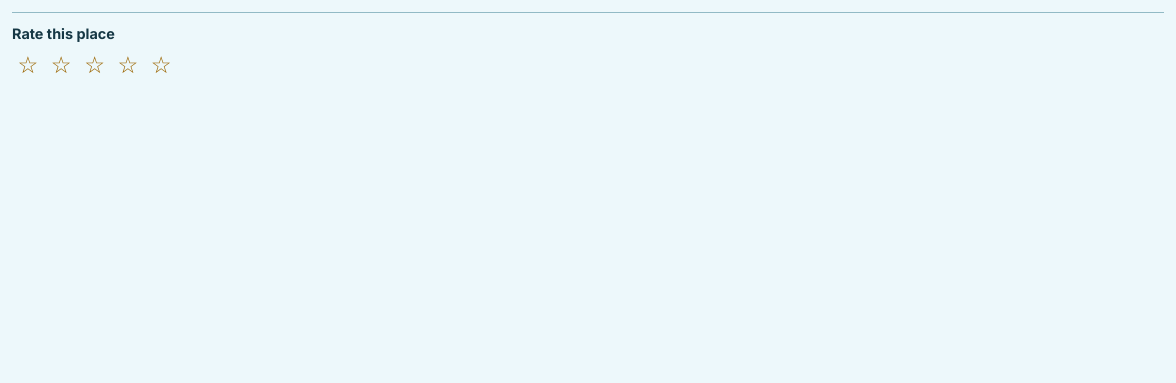
InlineRating › announces save failure and keeps retry reachable
The width and height of the screenshot is (1176, 383).
Click the radio button named "2 stars". click: (61,65)
box: [45,49,77,81]
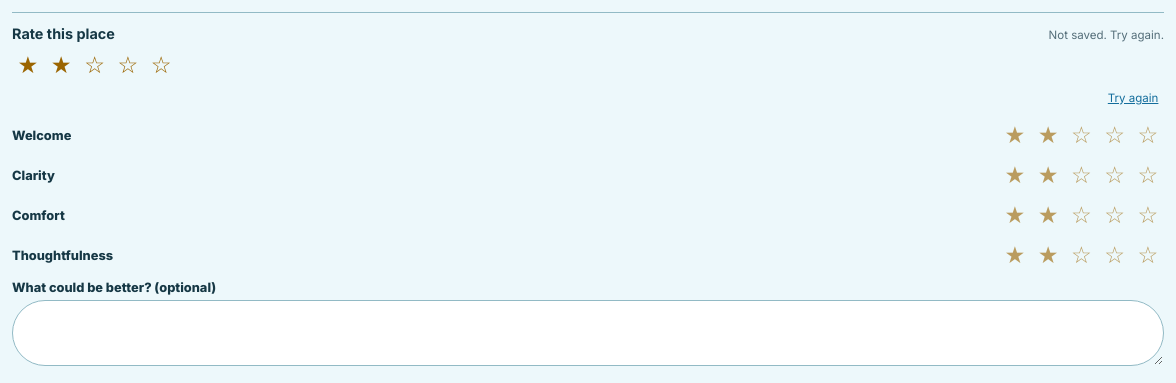
Result: the button "Try again" is shown at [1102,88,1164,107]
